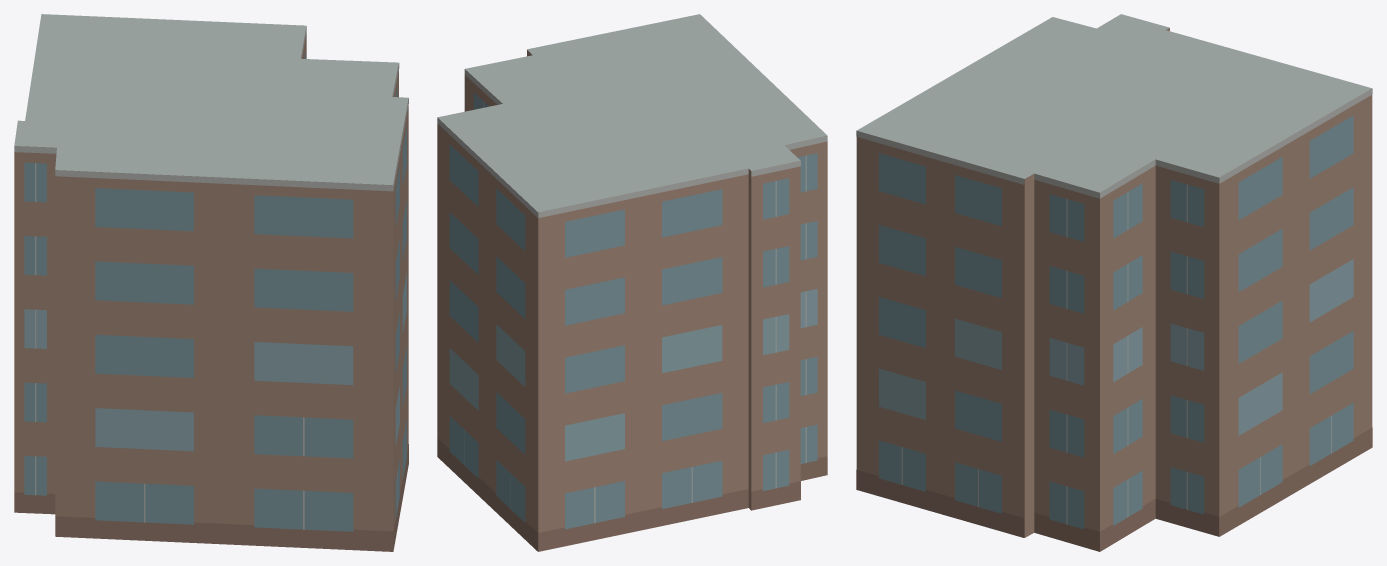
The model's file is survey-upis-32868600.glb.
3 renders of one model, left to right at view 1: azimuth 30°, elevation 25°; view 2: azimuth 150°, elevation 25°; view 3: azimuth 270°, elevation 25°, orthographic. The views are drawn at different scales.
Visible parts, largest first — view 1: survey-upis-32868600.tmp; view 2: survey-upis-32868600.tmp; view 3: survey-upis-32868600.tmp.
Part boxes in pixels (x1=…): survey-upis-32868600.tmp: x1=14, y1=14, x2=408, y2=551; survey-upis-32868600.tmp: x1=437, y1=14, x2=827, y2=551; survey-upis-32868600.tmp: x1=856, y1=14, x2=1372, y2=551.
Bounding box in the file's own units: 15.37 × 14.39 × 18.74.
